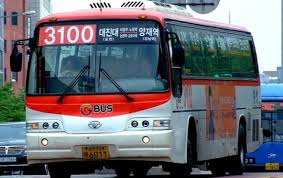bnum: (42, 24, 96, 45)
